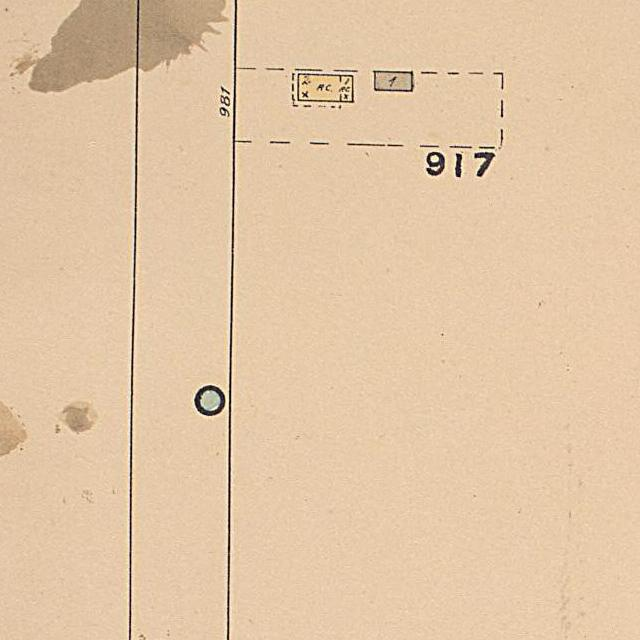building-footprints: (298, 74, 353, 102), (375, 71, 412, 91)
